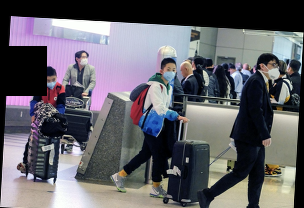with_mask: (266, 61, 280, 80), (162, 66, 176, 82), (42, 77, 56, 91), (77, 54, 88, 67)
